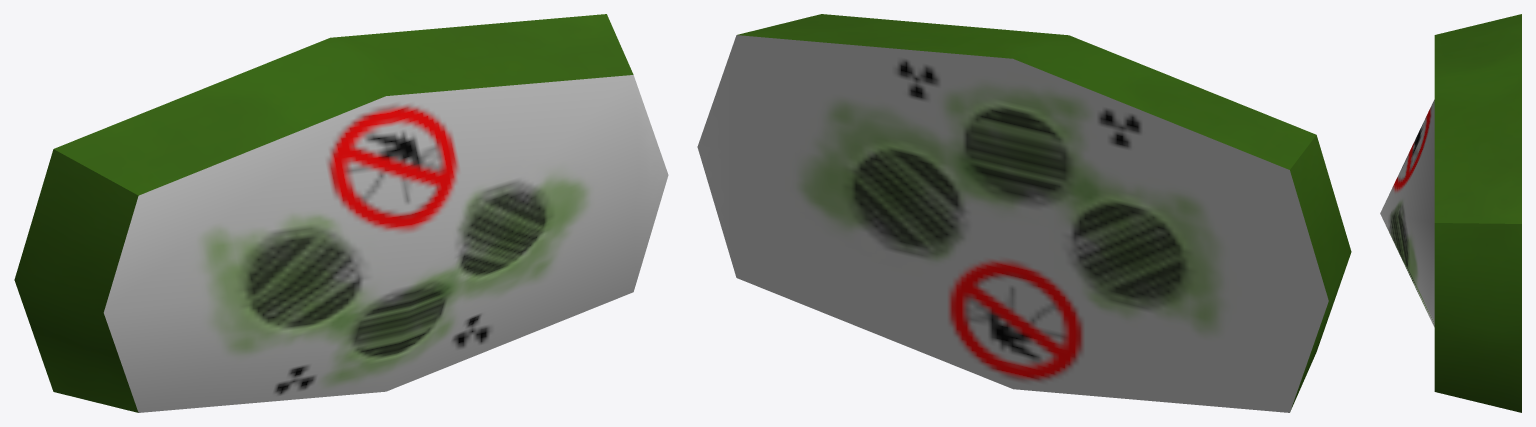
The model's file is Repeller_Drifter.fbx.
The picture shows the model from 3 angles, left to right: view 1: azimuth 30°, elevation 25°; view 2: azimuth 150°, elevation 25°; view 3: azimuth 270°, elevation 25°; orthographic projection. The views are drawn at different scales.
Parts seen in each view (by area): view 1: UltraSonic_Mosquito_Repeller4; view 2: UltraSonic_Mosquito_Repeller4; view 3: UltraSonic_Mosquito_Repeller4.
Boxes of the visible parts, <box> form: UltraSonic_Mosquito_Repeller4: <box>14,14,668,412</box>; UltraSonic_Mosquito_Repeller4: <box>697,14,1351,412</box>; UltraSonic_Mosquito_Repeller4: <box>1380,14,1521,412</box>.
Size of the model in its own units: 0.4 by 0.2 by 0.1.
